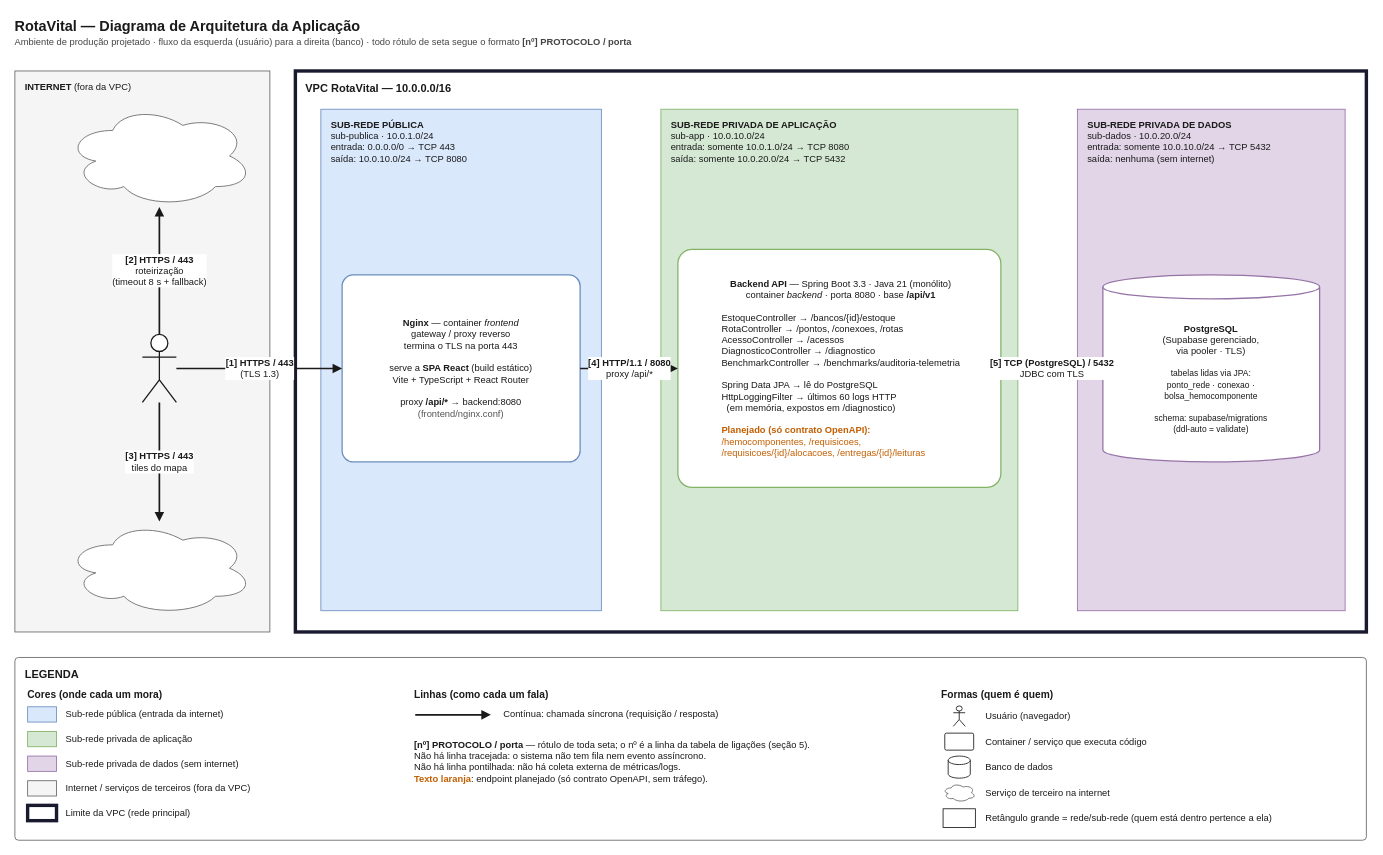
Some shapes in this 1383 by 855 pixel diagram are drawn without their labels. Each missing label, with the centre of its shape:
Navegador (usuário) executa a SPA React: (x=159, y=368)
OpenStreetMap (terceiro) tile.openstreetmap.org tiles do mapa: (x=159, y=568)
OSRM (terceiro) router.project-osrm.org cálculo de rota: (x=159, y=155)
